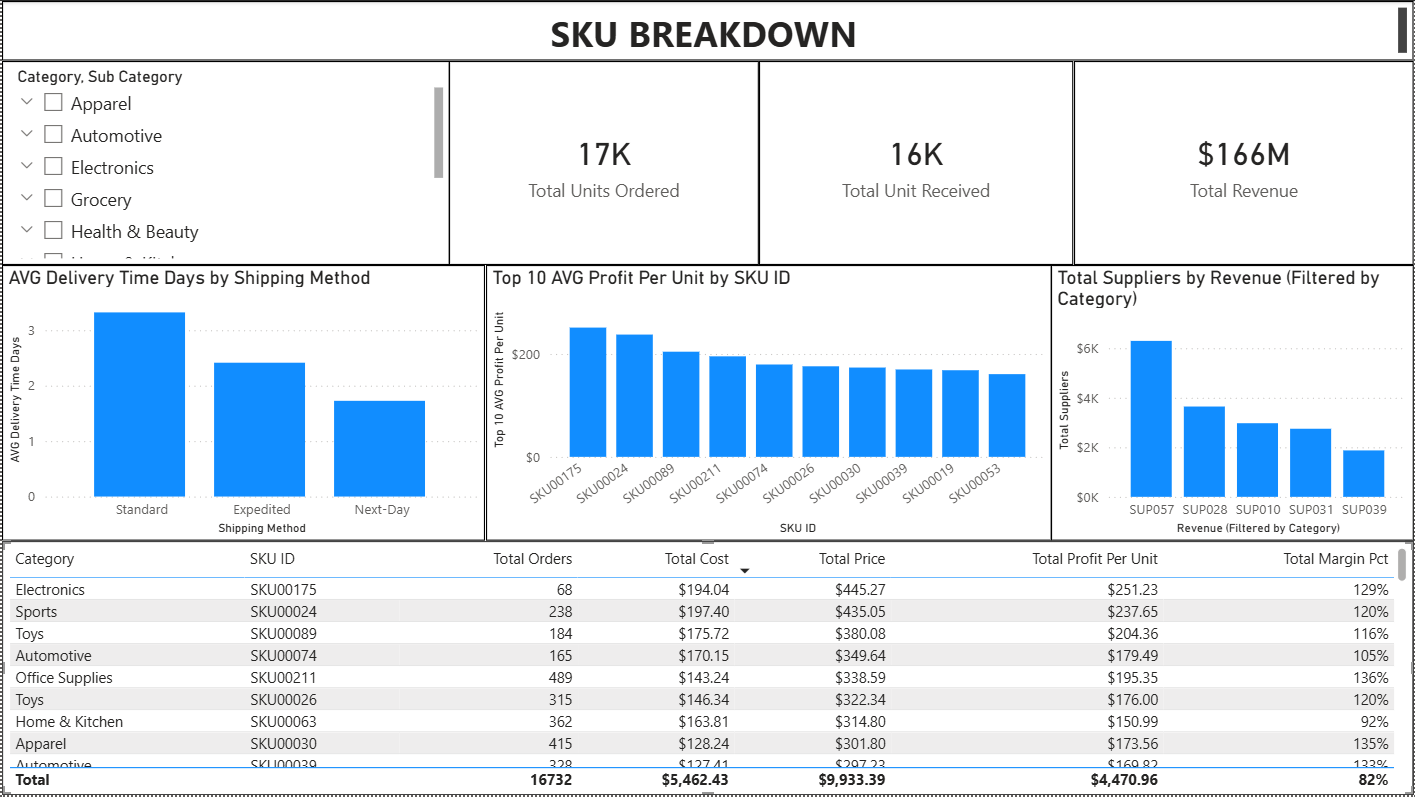

Layout of this report page (visuals, bound fields, positions):
{"tool":"powerbi","page":{"name":"SKU Breakdown","canvas":[1280,720],"ordinal":1},"visuals":[{"type":"slicer","fields":{"Values":["sku_clean.category","sku_clean.sub_category"]},"box":[0,54.5,405.6,184.8],"z":0},{"type":"clusteredColumnChart","fields":{"Y":["Avg(sku_clean.profit_per_unit)"],"Category":["sku_clean.sku_id"]},"box":[438.7,239.3,512.6,250],"z":1000},{"type":"card","fields":{"Values":["Sum(supplier_clean.units_ordered)"]},"box":[405.6,54.5,281.1,184.8],"z":2000},{"type":"card","fields":{"Values":["Sum(supplier_clean.units_received)"]},"box":[686.7,54.5,285,184.8],"z":3000},{"type":"clusteredColumnChart","fields":{"Category":["orders_clean.shipping_method"],"Y":["Avg(orders_clean.delivery_time_days)"]},"box":[0,239.3,437.7,250],"z":4000},{"type":"tableEx","fields":{"Values":["sku_clean.sku_id","sku_clean.cost","sku_clean.price","sku_clean.profit_per_unit","sku_clean.margin_pct"]},"box":[0,489.2,1280,230.5],"z":5000},{"type":"card","fields":{"Values":["sku_clean.Total Revenuee"]},"box":[971.7,54.5,308.3,184.8],"z":6000},{"type":"columnChart","fields":{"Category":["sku_clean.supplier_id"],"Y":["sku_clean.Total Revenuee"]},"box":[951.2,239,328.8,250.2],"z":7000},{"type":"textbox","box":[0,0,1280,54.5],"z":8000}]}

Visuals, with their boxes in screenshot pixels (x1, y1, x2, y2), scaled from the page's 1280x720 canvas onto the 1415x800 screenshot:
slicer - sku_clean.category x sku_clean.sub_category: [0, 61, 448, 266]
clusteredColumnChart - Avg(sku_clean.profit_per_unit) x sku_clean.sku_id: [485, 266, 1052, 544]
card - Sum(supplier_clean.units_ordered): [448, 61, 759, 266]
card - Sum(supplier_clean.units_received): [759, 61, 1074, 266]
clusteredColumnChart - orders_clean.shipping_method x Avg(orders_clean.delivery_time_days): [0, 266, 484, 544]
tableEx - sku_clean.sku_id x sku_clean.cost: [0, 544, 1414, 799]
card - sku_clean.Total Revenuee: [1074, 61, 1414, 266]
columnChart - sku_clean.supplier_id x sku_clean.Total Revenuee: [1052, 266, 1414, 544]
textbox: [0, 0, 1414, 61]
